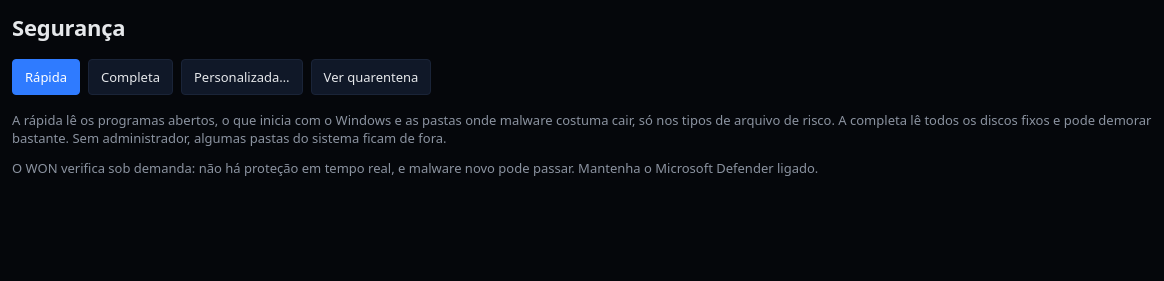
Test: Segurança › sem achados não promete segurança
Click the button "Rápida".
click(46, 77)  # box [12,59,80,95]
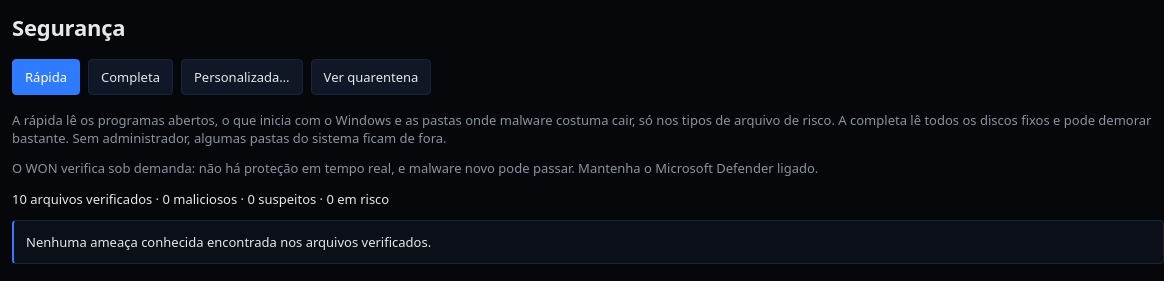
Check: the text "Nenhuma ameaça conhecida encontrada nos arquivos verificados." is shown, box [12,220,1163,264]
